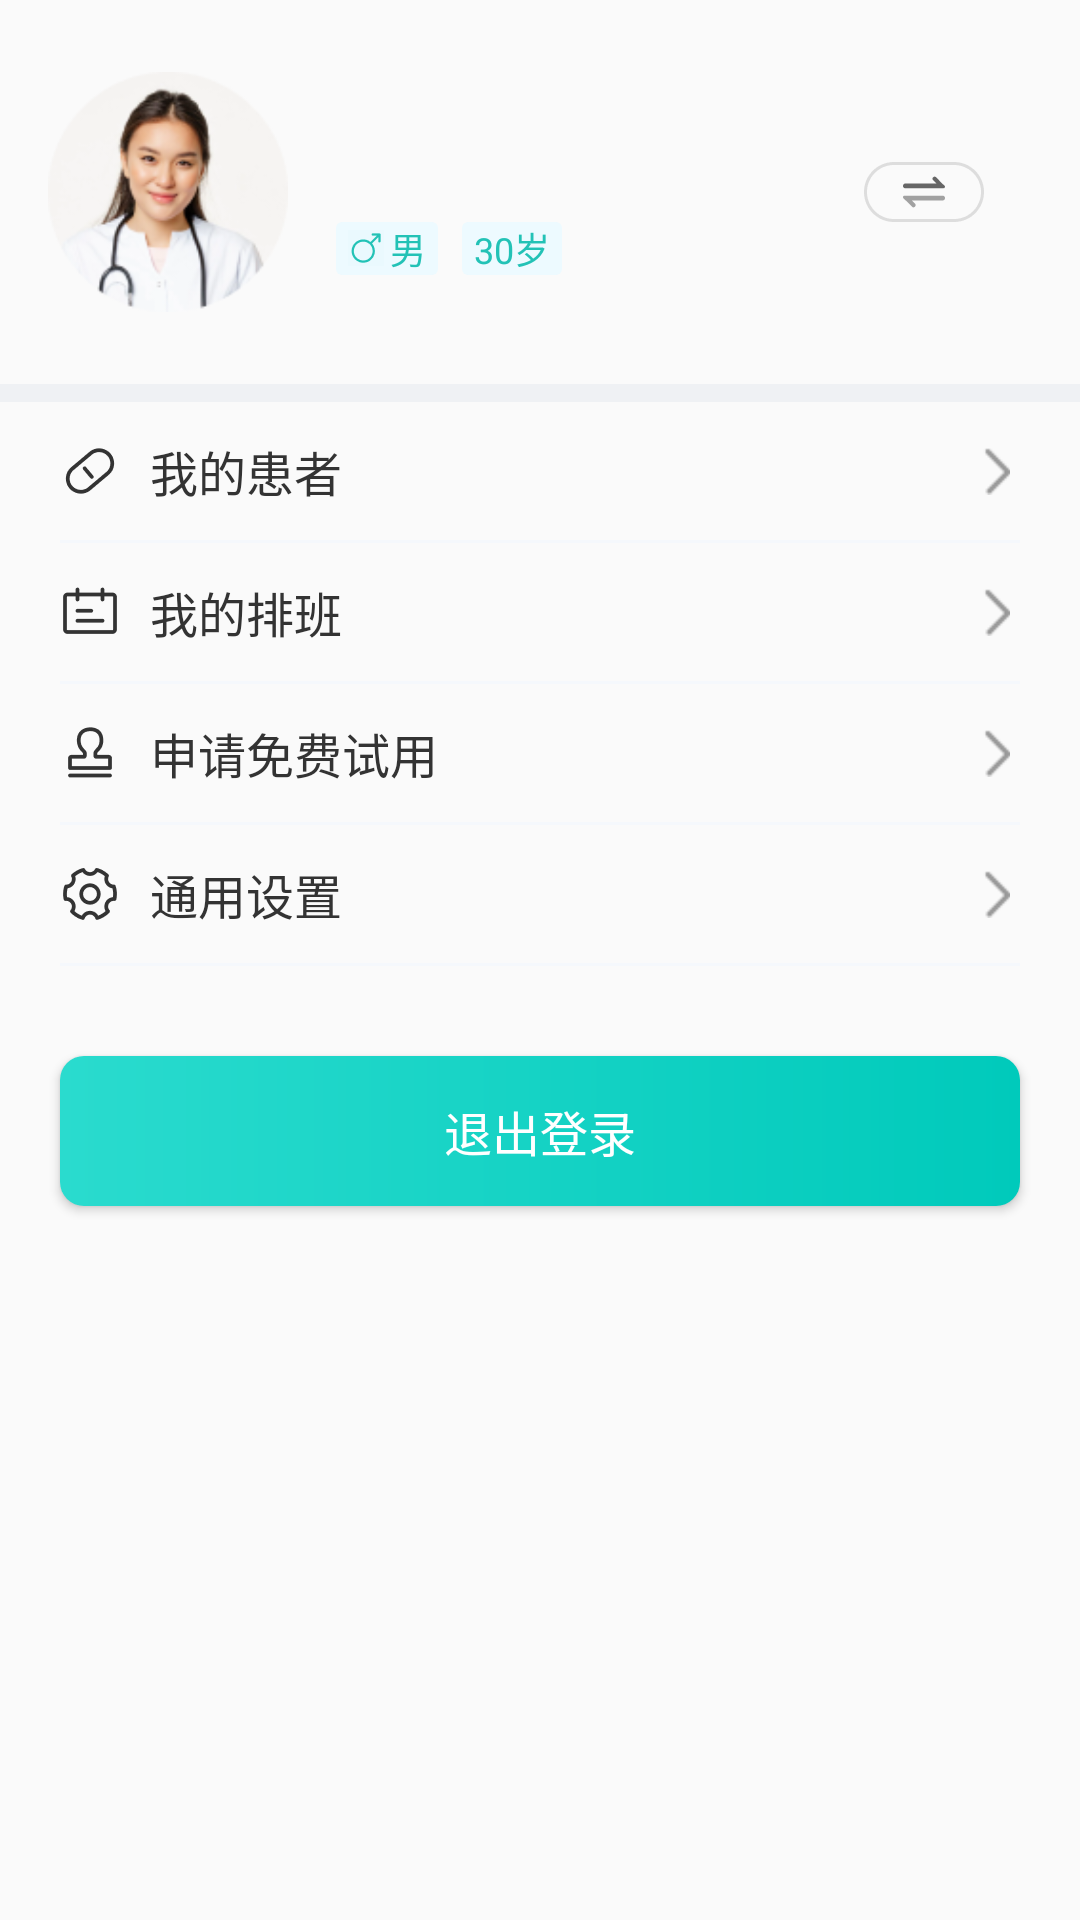

Point at icon controls on the screen. Image size 1080px×1920px, points as (x,y).
arrow: (997,472), (997,613), (997,754), (997,895)
change role: (924,192)
mine apply: (90,752)
mine setting: (90,894)
mine sufferer: (90,471)
mine task: (90,610)
